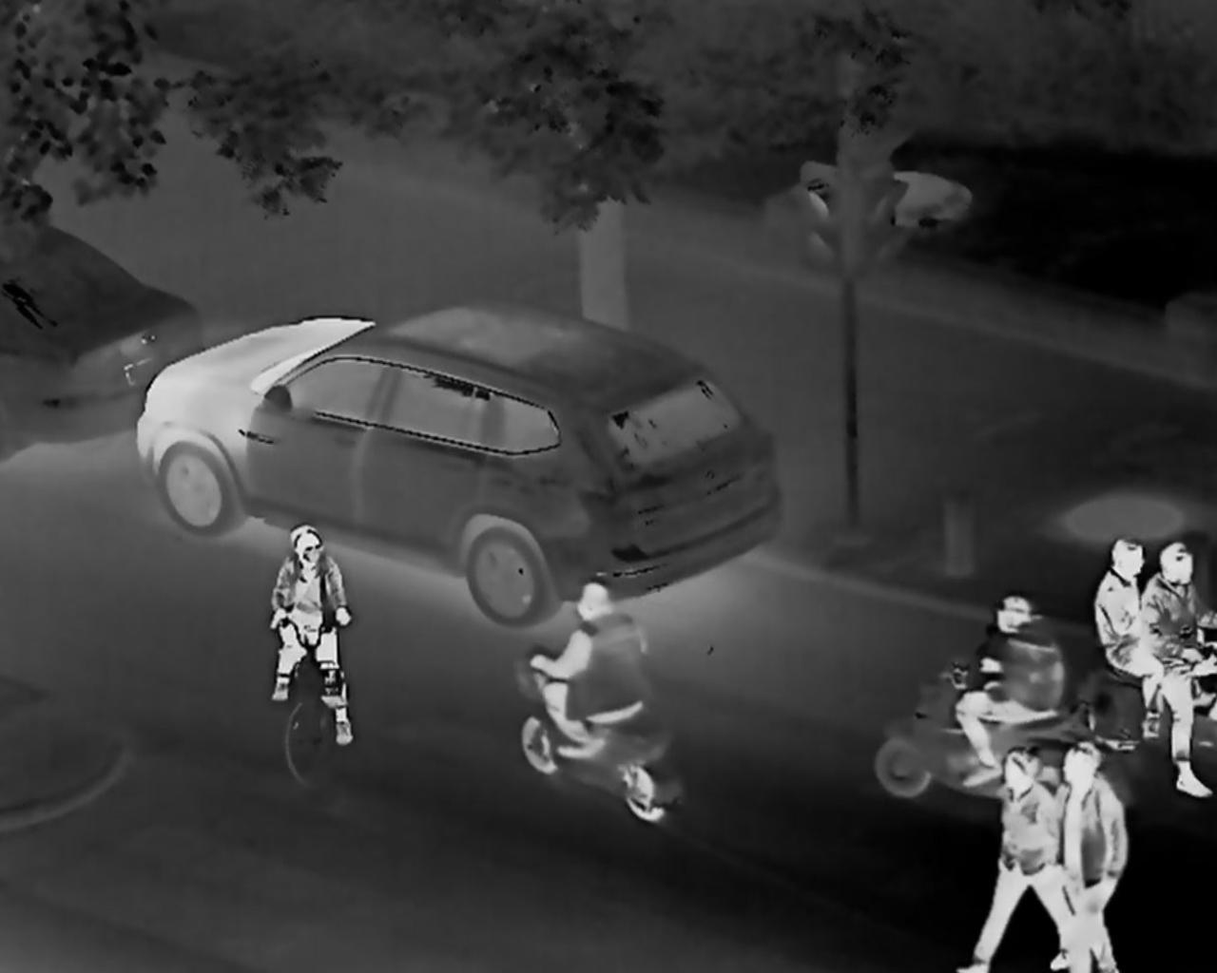person: (953, 744, 1075, 973), (521, 568, 647, 769), (952, 592, 1064, 792), (1133, 540, 1217, 804), (1037, 735, 1127, 973), (264, 517, 356, 748), (1083, 533, 1165, 741)
